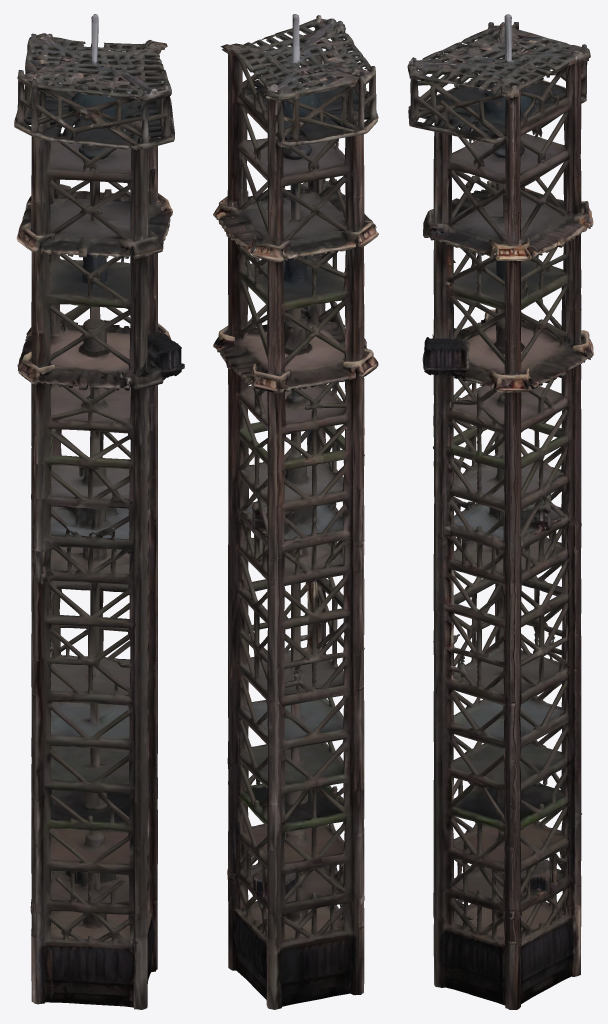
The model's file is launch-tower.glb.
3 views of the same model, side by side, from view 1: azimuth 30°, elevation 25°; view 2: azimuth 150°, elevation 25°; view 3: azimuth 270°, elevation 25° (orthographic).
Parts seen in each view (by area): view 1: tripo_part_0, tripo_part_2, tripo_part_1, tripo_part_16, tripo_part_12; view 2: tripo_part_0, tripo_part_1, tripo_part_2, tripo_part_15, tripo_part_20, tripo_part_10, tripo_part_12, tripo_part_16, tripo_part_19; view 3: tripo_part_0, tripo_part_1, tripo_part_2, tripo_part_10, tripo_part_15, tripo_part_12, tripo_part_19.
Boxes of the visible parts, x1=… form: tripo_part_0: x1=30, y1=375, x2=157, y2=1009; tripo_part_2: x1=16, y1=184, x2=184, y2=390; tripo_part_1: x1=14, y1=14, x2=174, y2=241; tripo_part_16: x1=31, y1=935, x2=133, y2=1007; tripo_part_12: x1=67, y1=91, x2=122, y2=160; tripo_part_0: x1=228, y1=373, x2=364, y2=1009; tripo_part_1: x1=220, y1=14, x2=378, y2=245; tripo_part_2: x1=213, y1=180, x2=378, y2=393; tripo_part_15: x1=227, y1=368, x2=240, y2=910; tripo_part_20: x1=281, y1=935, x2=350, y2=1002; tripo_part_10: x1=232, y1=913, x2=354, y2=1006; tripo_part_12: x1=283, y1=94, x2=321, y2=160; tripo_part_16: x1=325, y1=905, x2=364, y2=995; tripo_part_19: x1=253, y1=869, x2=301, y2=895; tripo_part_0: x1=433, y1=364, x2=582, y2=1009; tripo_part_1: x1=407, y1=14, x2=590, y2=244; tripo_part_2: x1=422, y1=180, x2=593, y2=392; tripo_part_10: x1=440, y1=918, x2=574, y2=1005; tripo_part_15: x1=511, y1=392, x2=521, y2=947; tripo_part_12: x1=484, y1=90, x2=536, y2=157; tripo_part_19: x1=521, y1=859, x2=551, y2=891.
Size of the model in its own units: 0.1585 by 0.9786 by 0.1711.
Materials: 9 (9 with a texture image).
